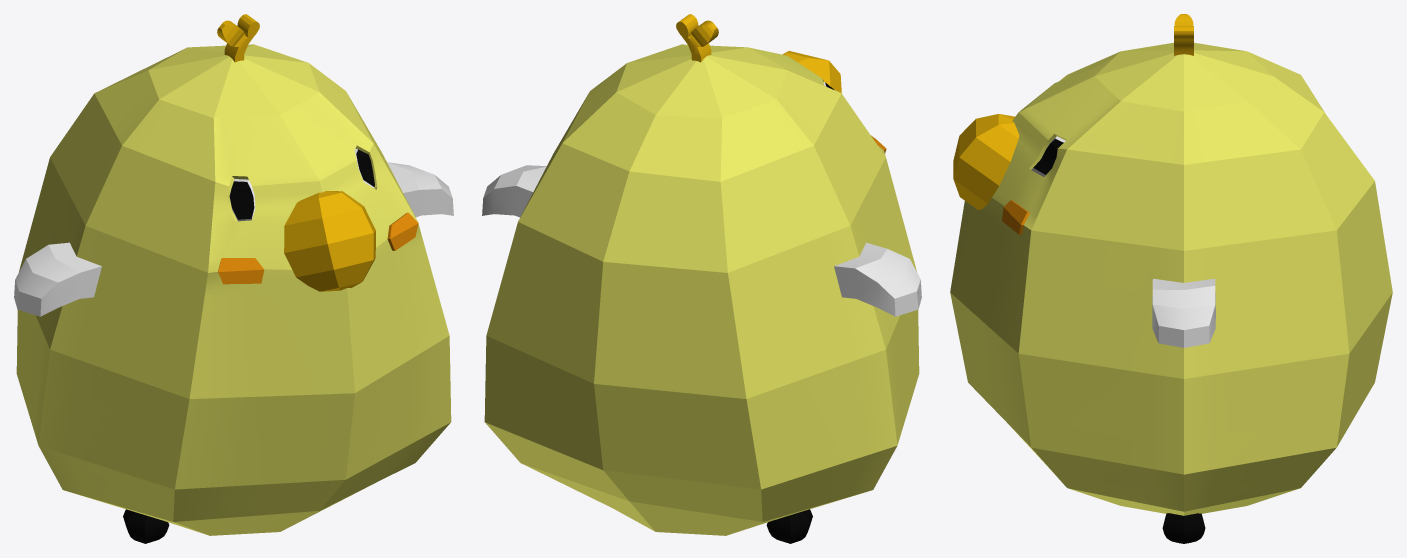
File: Maincharacter_yellow.fbx
3 renders of one model, left to right at view 1: azimuth 30°, elevation 25°; view 2: azimuth 150°, elevation 25°; view 3: azimuth 270°, elevation 25°, orthographic. The views are drawn at different scales.
Parts seen in each view (by area): view 1: pSphere5; view 2: pSphere5; view 3: pSphere5.
Boxes of the visible parts, box(x1,y1,x2,y2) form: pSphere5: box(14, 14, 453, 543); pSphere5: box(482, 14, 921, 543); pSphere5: box(950, 14, 1392, 543).
Size of the model in its own units: 1.05 by 1.15 by 0.9628.
